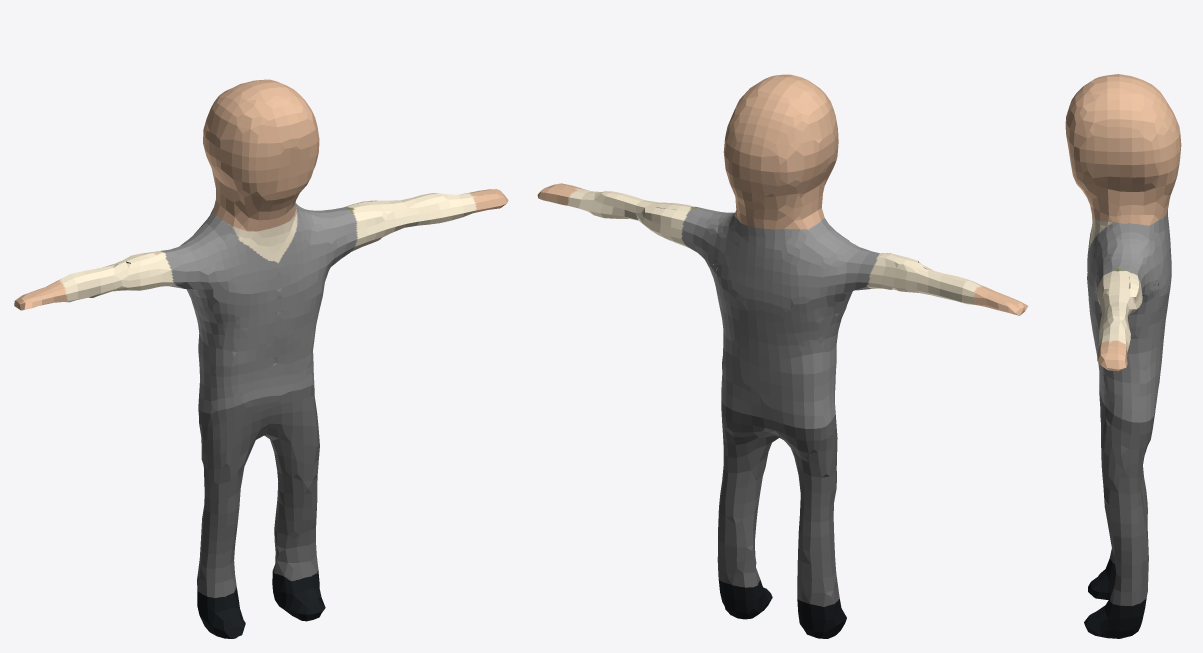
The model's file is man_3.fbx.
3 views of the same model, side by side, from view 1: azimuth 30°, elevation 25°; view 2: azimuth 150°, elevation 25°; view 3: azimuth 270°, elevation 25° (orthographic).
Visible parts, largest first — view 1: Man_.003; view 2: Man_.003; view 3: Man_.003.
Boxes of the visible parts, x1,y1,x2,y2 form: Man_.003: (14, 79, 508, 638); Man_.003: (537, 74, 1028, 638); Man_.003: (1065, 74, 1181, 638).
Bounding box in the file's own units: 472 × 548 × 111.
1 material, 1 textured.
